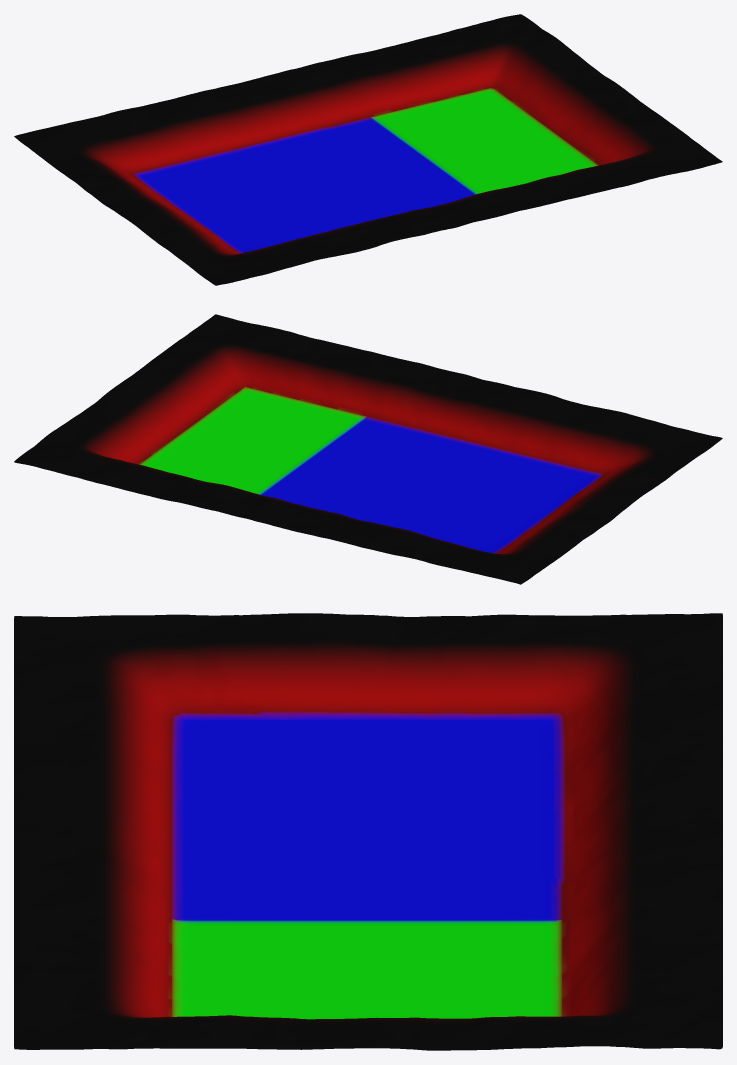
File: Polygon.fbx
The picture shows the model from 3 angles, top to bottom: view 1: azimuth 30°, elevation 25°; view 2: azimuth 150°, elevation 25°; view 3: azimuth 270°, elevation 25°; orthographic projection. The views are drawn at different scales.
Visible parts, largest first — view 1: Plane.001; view 2: Plane.001; view 3: Plane.001.
Part boxes in pixels (left/top/right/bottom): Plane.001: left=14, top=14, right=722, bottom=285; Plane.001: left=14, top=314, right=722, bottom=584; Plane.001: left=14, top=613, right=722, bottom=1050.
Size of the model in its own units: 11828 by 546 by 8168.
